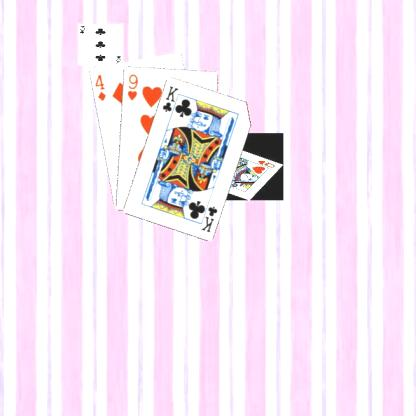4D: (92, 71, 107, 102)
9H: (124, 70, 139, 102)
KC: (196, 198, 219, 233), (159, 82, 181, 118)
